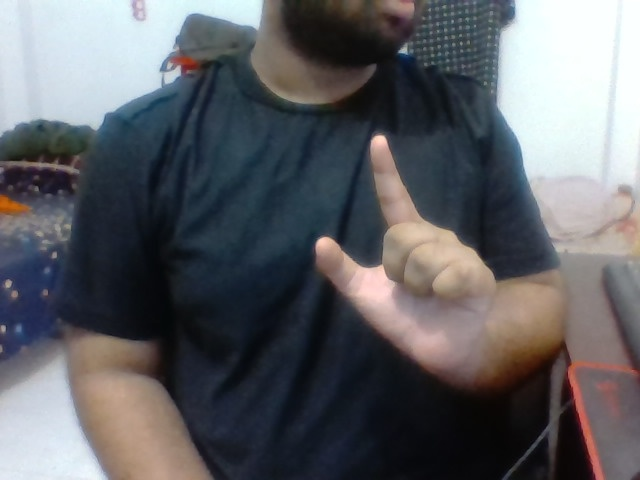J: (297, 120, 504, 369)
